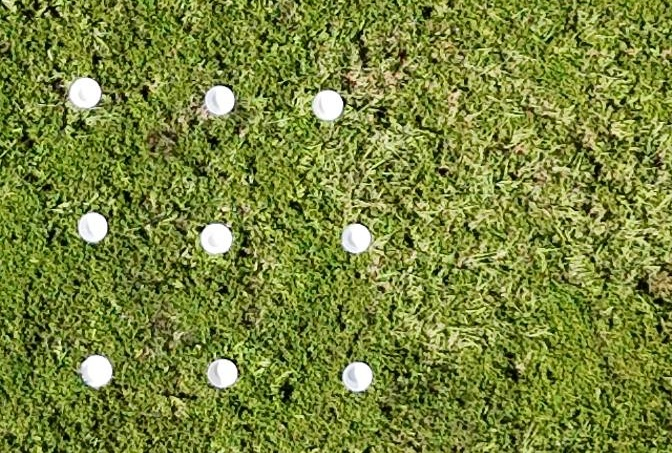bowl: (196, 223, 235, 257), (310, 89, 345, 125), (76, 354, 112, 388), (200, 85, 236, 119), (65, 75, 99, 110), (339, 221, 373, 256), (203, 357, 239, 390), (74, 211, 108, 245), (340, 362, 373, 394)
